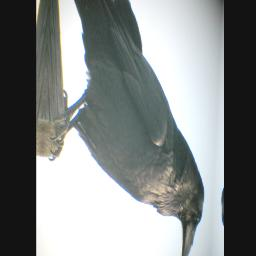Crow: (44, 0, 217, 256)
